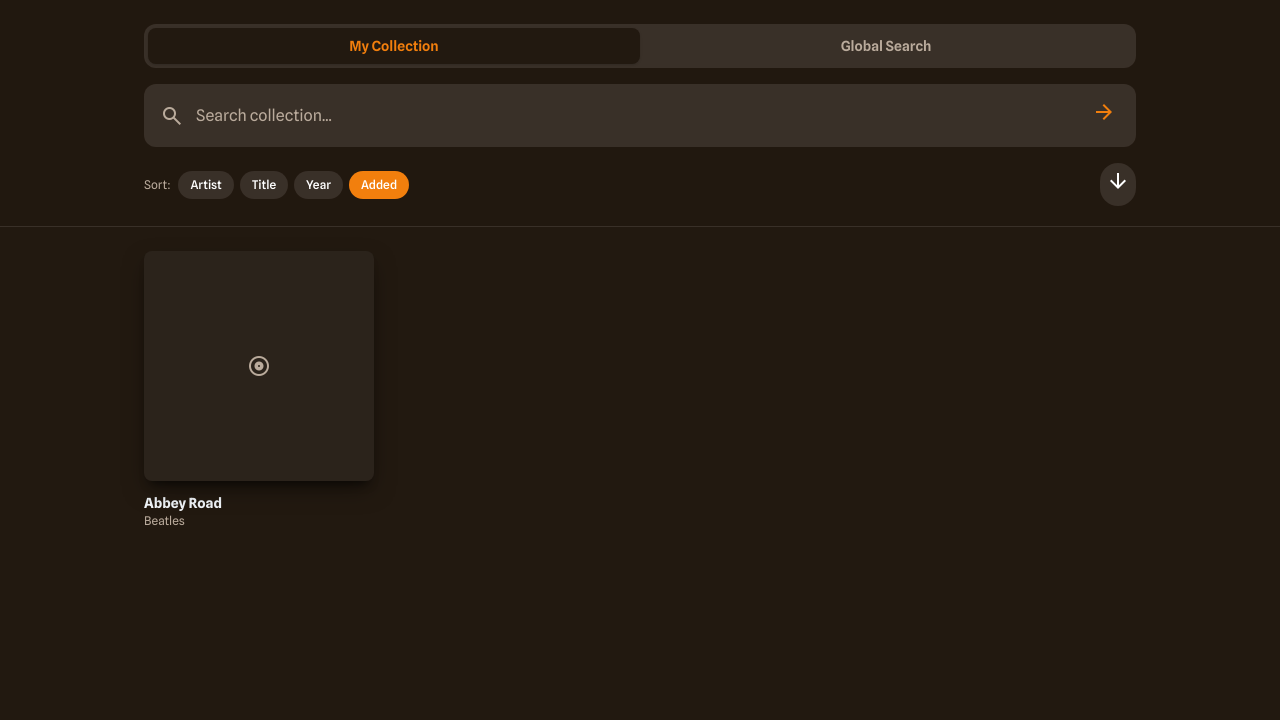
Test: Collection Page › shows empty message when no items match search
Expected: the heading "Abbey Road" is shown, top-left (144, 495), bottom-right (222, 511)
Step 1. Type "xyz" into the field with placeholder "Search collection..." → (638,116), box top-left (196, 104), bottom-right (1080, 128)
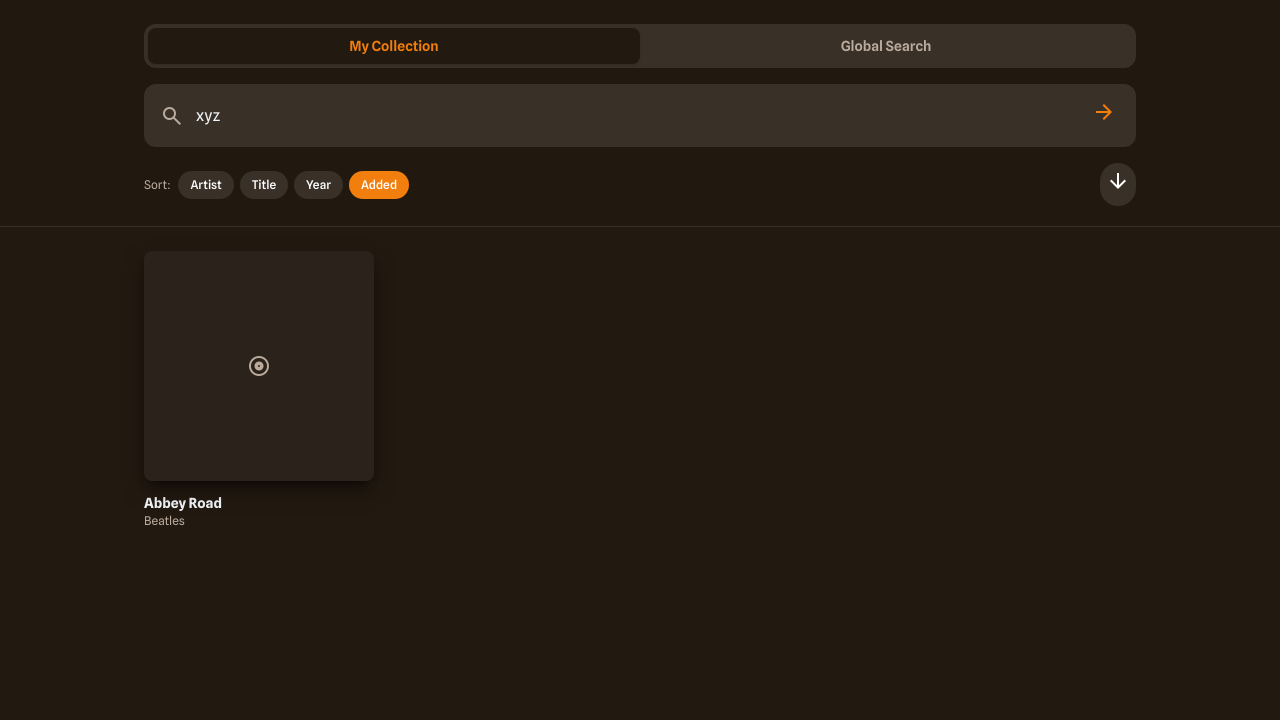
Step 2. Click the button named "Search collection" → (1104,116), box top-left (1088, 96), bottom-right (1120, 135)
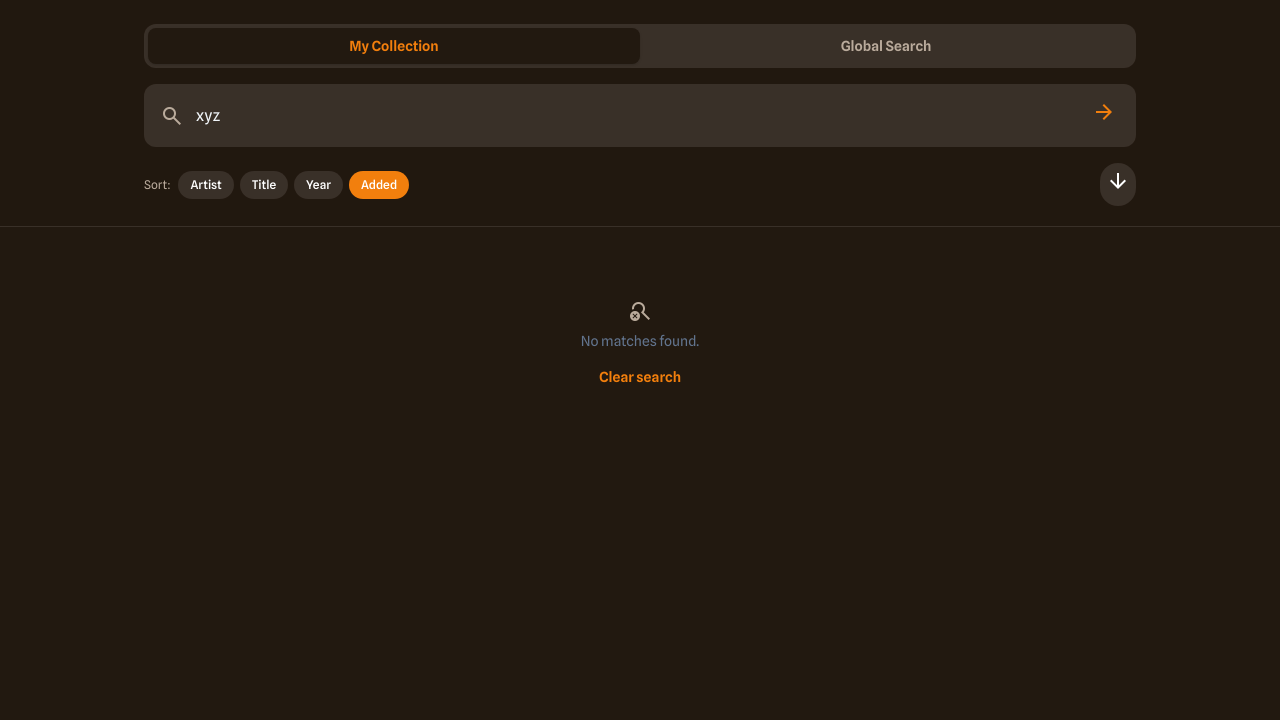
Expected: the text "No matches found." is shown, top-left (581, 333), bottom-right (699, 349)
